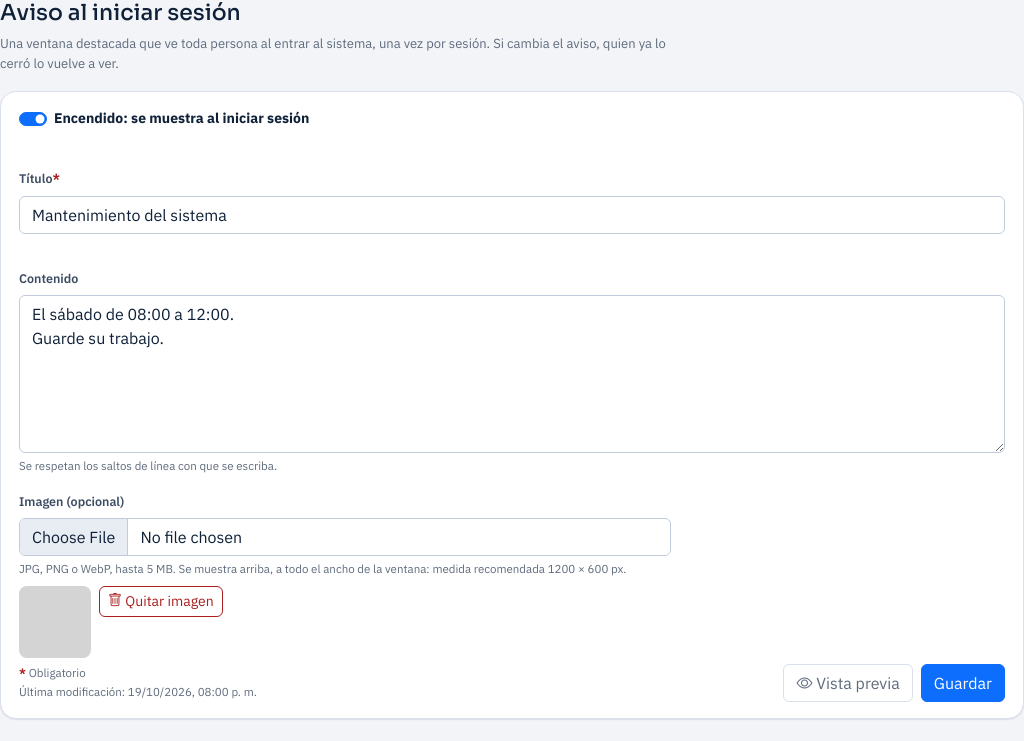
En Configuración › el título es obligatorio encendido y su error va bajo el campo
Step 1. Click the button "Guardar" → (963, 683), box [921,664,1005,702]
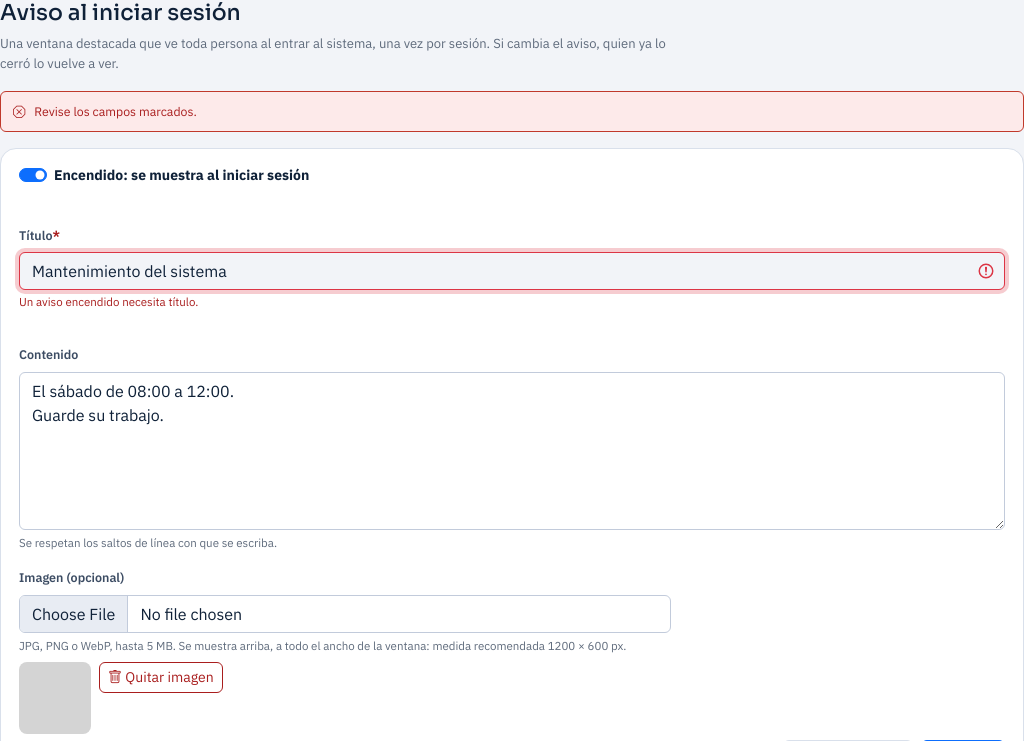
Check: the text "Un aviso encendido necesita título." is shown, box [19,294,198,309]
Check: the message reads "Revise los campos marcados.", box [34,103,197,119]
